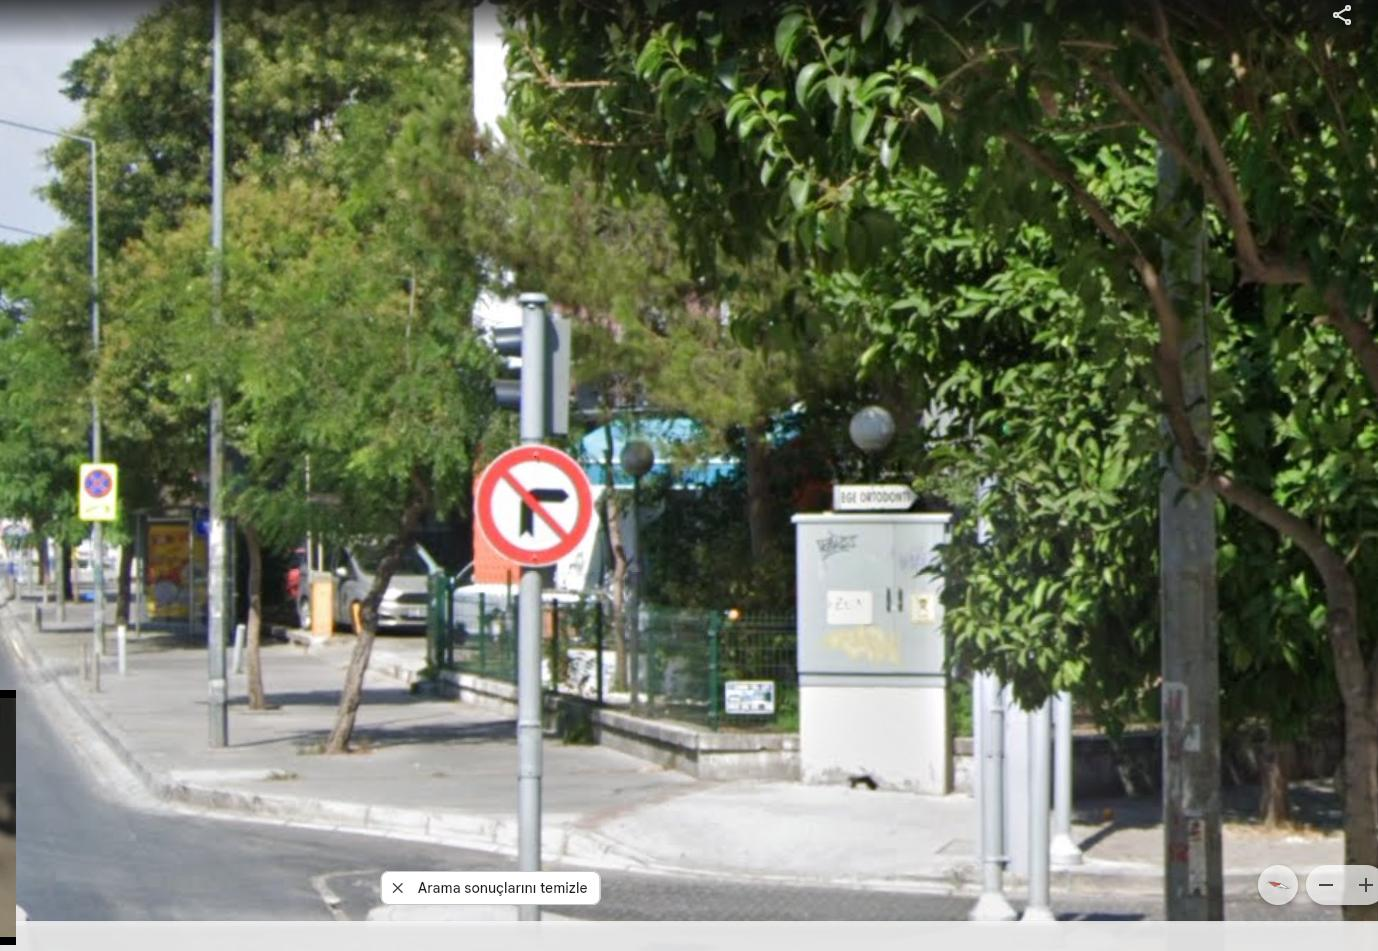rightturnsareforbidden: (480, 450, 593, 563)
